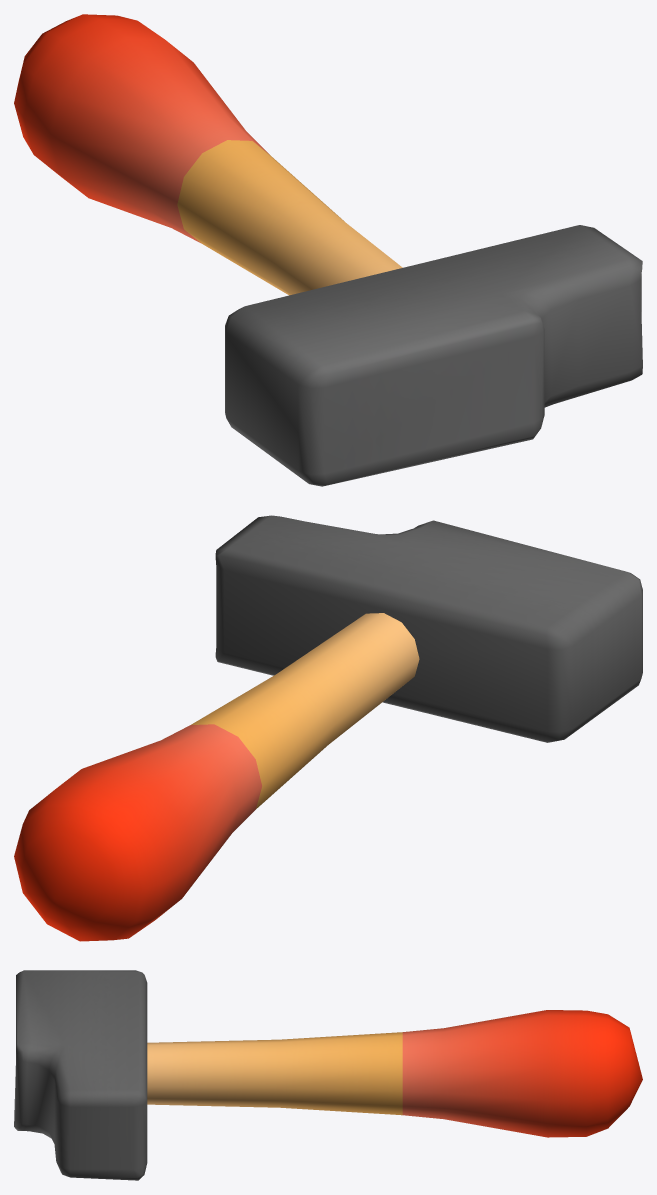
The model's file is marteau.fbx.
3 renders of one model, top to bottom at view 1: azimuth 30°, elevation 25°; view 2: azimuth 150°, elevation 25°; view 3: azimuth 270°, elevation 25°, orthographic. The views are drawn at different scales.
Visible parts, largest first — view 1: Marteau; view 2: Marteau; view 3: Marteau.
Part boxes in pixels (box(x1,y1,x2,y2)): Marteau: box(14, 14, 642, 486); Marteau: box(14, 515, 642, 941); Marteau: box(14, 970, 642, 1180).
Bounding box in the file's own units: 64.42 × 26.62 × 131.
